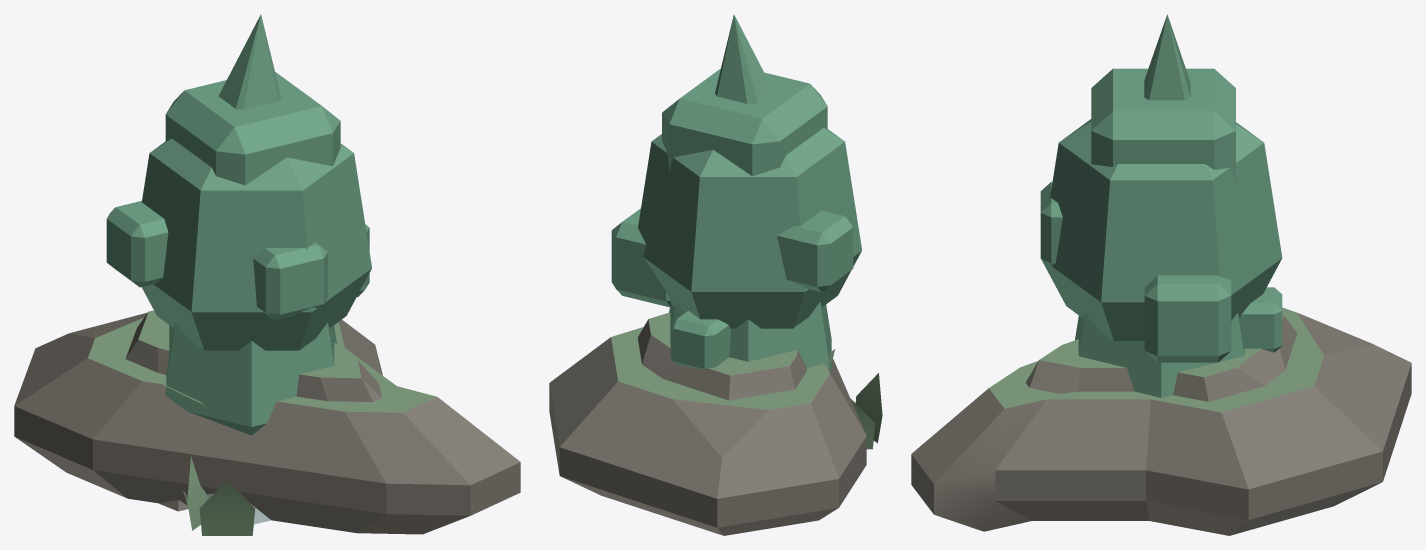
Rendered from props.glb.
The picture shows the model from 3 angles, left to right: view 1: azimuth 30°, elevation 25°; view 2: azimuth 150°, elevation 25°; view 3: azimuth 270°, elevation 25°; orthographic projection. The views are drawn at different scales.
Visible parts, largest first — view 1: rock_largeA, tree_oak_dark, tree_detailed_dark, tree_fat_darkh, rock_largeB, tree_pineTallA, grass_leafs; view 2: rock_largeA, tree_oak_dark, tree_detailed_dark, rock_largeB, tree_fat_darkh, tree_pineTallA, grass_leafs; view 3: rock_largeA, tree_oak_dark, tree_detailed_dark, rock_largeB, tree_fat_darkh, tree_pineTallA.
Part boxes in pixels (box(x1,y1,x2,y2)): rock_largeA: box(14, 312, 520, 534); tree_oak_dark: box(141, 138, 371, 350); tree_detailed_dark: box(106, 72, 369, 320); tree_fat_darkh: box(165, 322, 336, 435); rock_largeB: box(125, 310, 381, 401); tree_pineTallA: box(218, 14, 281, 109); grass_leafs: box(183, 456, 255, 535); rock_largeA: box(549, 327, 866, 535); tree_oak_dark: box(638, 128, 861, 328); tree_detailed_dark: box(611, 68, 853, 369); rock_largeB: box(637, 312, 806, 400); tree_fat_darkh: box(669, 302, 831, 370); tree_pineTallA: box(715, 14, 773, 103); grass_leafs: box(851, 373, 882, 449); rock_largeA: box(911, 307, 1411, 535); tree_oak_dark: box(1042, 119, 1282, 341); tree_detailed_dark: box(1040, 68, 1282, 362); rock_largeB: box(1025, 315, 1297, 401); tree_fat_darkh: box(1075, 313, 1244, 397); tree_pineTallA: box(1144, 14, 1190, 100).
Size of the model in its own units: 3.47 by 4.6 by 4.5.
